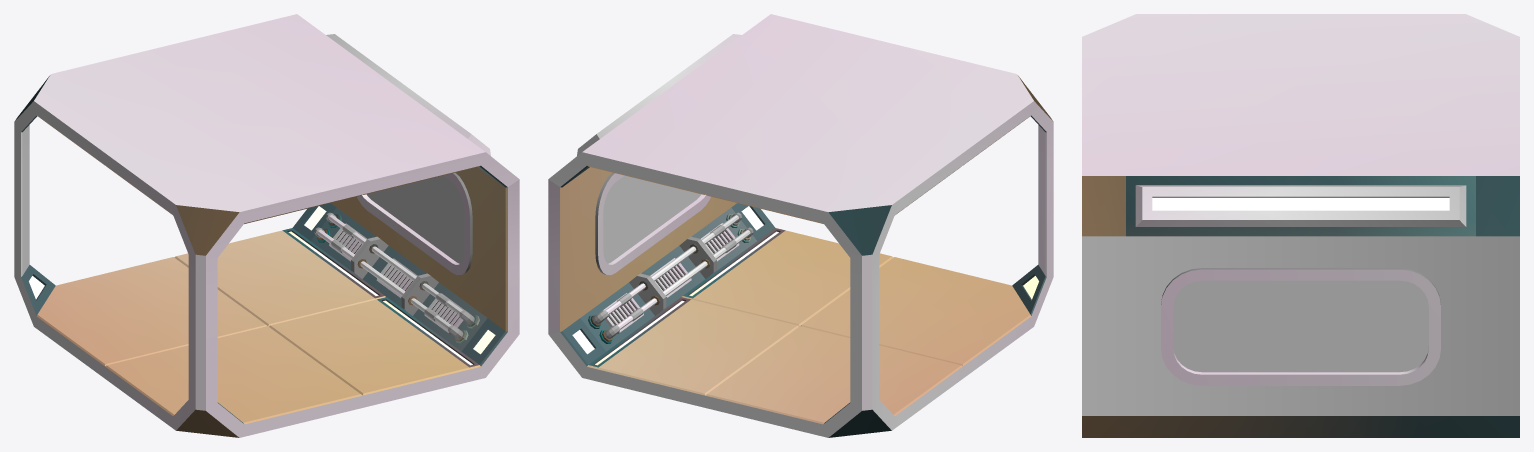
Rendered from C_3_branch_Window.fbx.
The picture shows the model from 3 angles, left to right: view 1: azimuth 30°, elevation 25°; view 2: azimuth 150°, elevation 25°; view 3: azimuth 270°, elevation 25°; orthographic projection. The views are drawn at different scales.
Visible parts, largest first — view 1: C_3_branch_Window; view 2: C_3_branch_Window; view 3: C_3_branch_Window.
Boxes of the visible parts, x1,y1,x2,y2 form: C_3_branch_Window: (14,14,519,437); C_3_branch_Window: (548,14,1053,437); C_3_branch_Window: (1082,14,1519,437).
Size of the model in its own units: 494 by 330 by 500.
